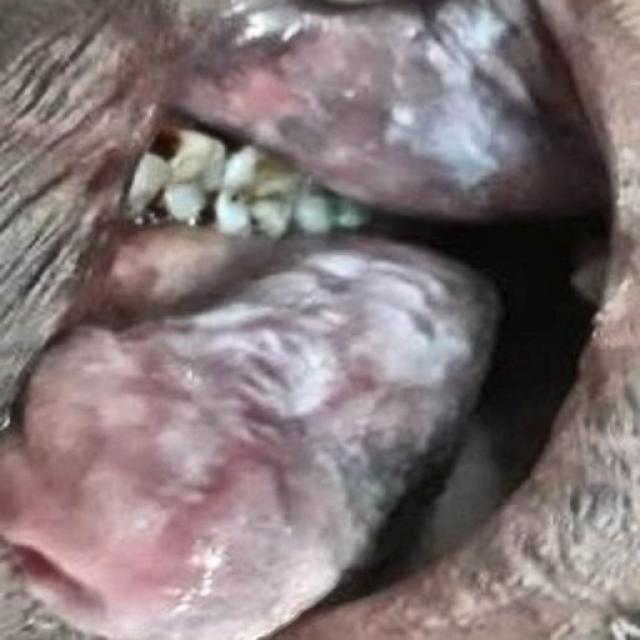cancer-detection: (101, 394, 448, 636), (190, 2, 557, 192), (165, 244, 491, 422)
processing_area: (2, 223, 491, 636), (178, 3, 580, 210)
